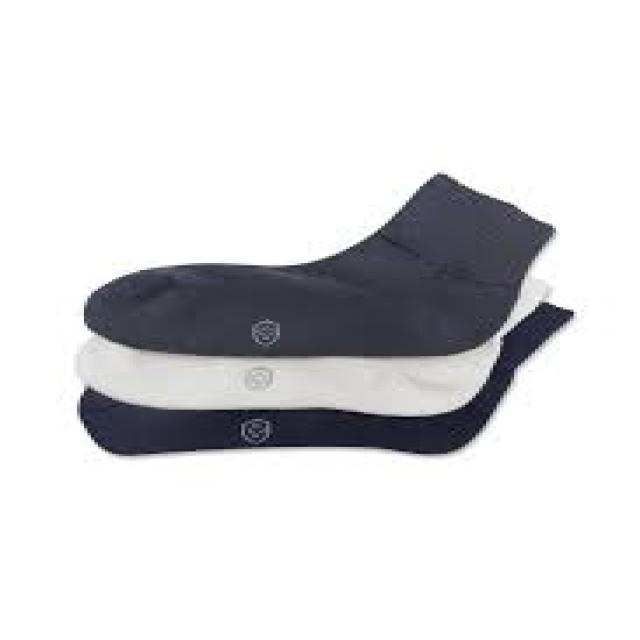sock: (81, 170, 556, 356), (74, 298, 574, 454)
